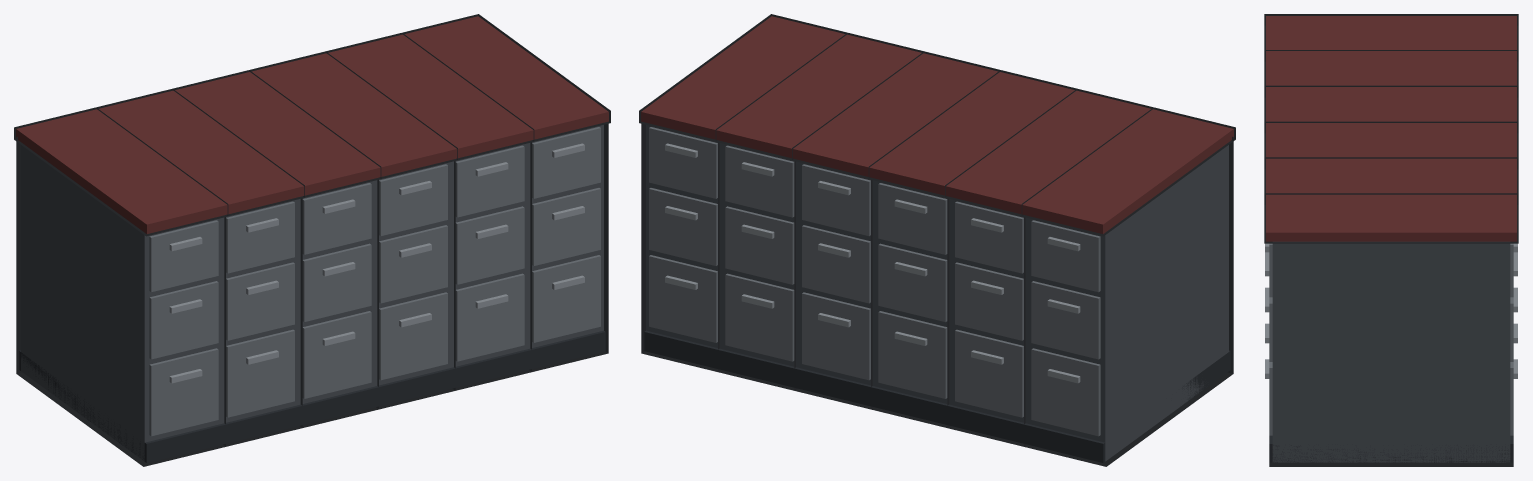
File: SM_BarrierLow_3m.glb
3 renders of one model, left to right at view 1: azimuth 30°, elevation 25°; view 2: azimuth 150°, elevation 25°; view 3: azimuth 270°, elevation 25°, orthographic. The views are drawn at different scales.
Parts seen in each view (by area): view 1: SM_BarrierLow_3m, SM_BarrierLow_3m_Outline; view 2: SM_BarrierLow_3m, SM_BarrierLow_3m_Outline; view 3: SM_BarrierLow_3m, SM_BarrierLow_3m_Outline.
Part boxes in pixels (x1,y1,x2,y2): SM_BarrierLow_3m: (16,16,608,462); SM_BarrierLow_3m_Outline: (14,14,610,466); SM_BarrierLow_3m: (641,16,1233,462); SM_BarrierLow_3m_Outline: (639,14,1235,466); SM_BarrierLow_3m: (1265,16,1517,462); SM_BarrierLow_3m_Outline: (1264,14,1518,466).
Bounding box in the file's own units: 3.04 × 1.53 × 1.5.
Materials: 2 (1 with a texture image).
